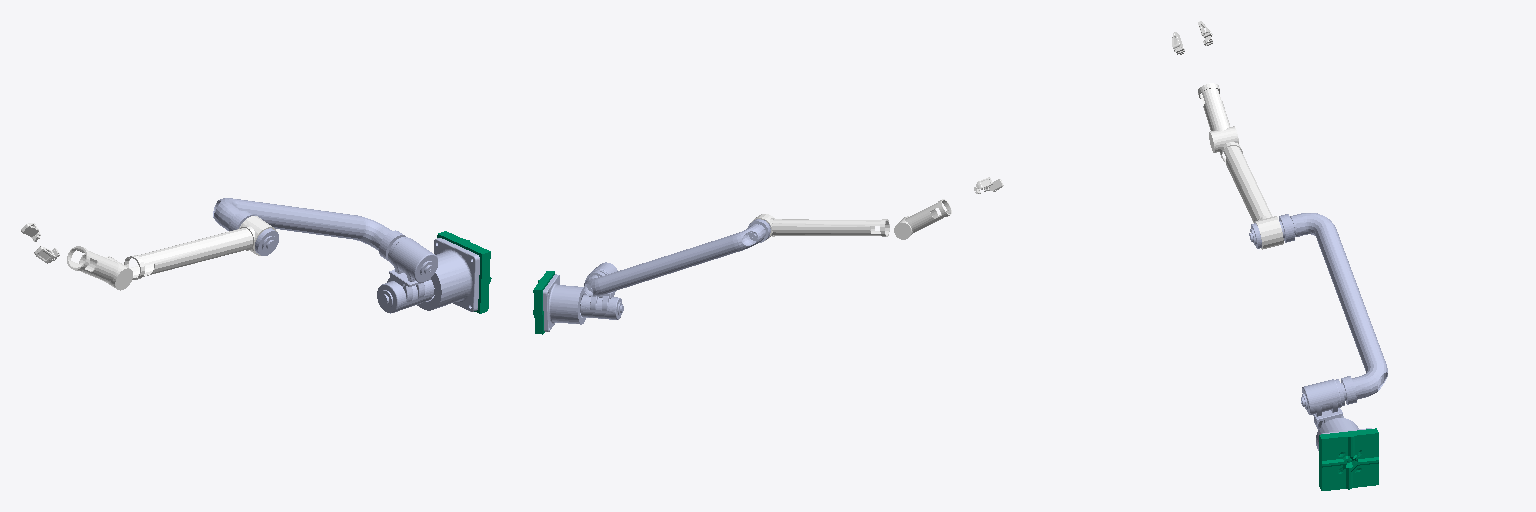
robot.urdf — satellite_8__starlink_sldasm9:
<?xml version='1.0' encoding='utf-8'?>
<robot name="satellite_8__starlink_sldasm9">
  <link name="base_link">
    <visual>
      <geometry>
        <mesh filename="../satellites/satellite_8/satellite.stl" scale="1 1 1" />
      </geometry>
      <material name="satellite_body_color">
        <color rgba="0.65 0.72 0.8 1" />
      </material>
    </visual>
    <collision>
      <geometry>
        <mesh filename="../satellites/satellite_8/satellite.stl" scale="1 1 1" />
      </geometry>
    </collision>
  </link>
  <link name="satellite_8_mount" />
  <joint name="satellite_mount_fixed" type="fixed">
    <parent link="base_link" />
    <child link="satellite_8_mount" />
    <origin xyz="0.15477028499931625 -0.178627828679634 0.5965685106964815" rpy="-1.5292767408638297 -0.009960664339460301 1.8061152658260409" />
  </joint>
  <link name="concept_mount_pad">
    <visual>
      <geometry>
        <mesh filename="../satellites/satellite_8/prism_side_shim.stl" />
      </geometry>
    </visual>
    <collision>
      <geometry>
        <mesh filename="../satellites/satellite_8/prism_side_shim.stl" />
      </geometry>
    </collision>
  </link>
  <joint name="pad_fixed" type="fixed">
    <parent link="satellite_8_mount" />
    <child link="concept_mount_pad" />
    <origin xyz="0 0 0" rpy="0 0 0" />
  </joint>
  <joint name="arm_adapter_fixed" type="fixed">
    <parent link="satellite_8_mount" />
    <child link="starlink_space_manipulator_base_link" />
    <origin xyz="0.009087204933166504 0.008519247174263 0.17734242334961897" rpy="-1.5707963267948966 0 0" />
  </joint>
  <link name="starlink_space_manipulator_base_link">
    <inertial>
      <origin xyz="-0.00908719924946466 0.0225428225681148 -0.00851924929637313" rpy="0 0 0" />
      <mass value="8.66024015898073" />
      <inertia ixx="0.0960303512697639" ixy="1.65511904636803E-18" ixz="6.22039820639877E-19" iyy="0.103454922260914" iyz="-9.68471289978311E-19" izz="0.0960303512697639" />
    </inertial>
    <visual>
      <origin xyz="0 0 0" rpy="0 0 0" />
      <geometry>
        <mesh filename="../arms/starlink_sldasm9/meshes/starlink_space_manipulator_base_link.STL" />
      </geometry>
      <material name="">
        <color rgba="0.792156862745098 0.819607843137255 0.933333333333333 1" />
      </material>
    </visual>
    <collision>
      <origin xyz="0 0 0" rpy="0 0 0" />
      <geometry>
        <mesh filename="../arms/starlink_sldasm9/meshes/starlink_space_manipulator_base_link.STL" />
      </geometry>
    </collision>
  </link>
  <link name="starlink_space_manipulator_Shoulder_link_1">
    <inertial>
      <origin xyz="-0.000399471745595769 -0.100006574194712 -0.17423940484461" rpy="0 0 0" />
      <mass value="5.16309216784981" />
      <inertia ixx="0.0524543852135592" ixy="0.00348154867667969" ixz="6.96526910910627E-05" iyy="0.0306595326318824" iyz="-0.00056674368052247" izz="0.0439979075615329" />
    </inertial>
    <visual>
      <origin xyz="0 0 0" rpy="0 0 0" />
      <geometry>
        <mesh filename="../arms/starlink_sldasm9/meshes/starlink_space_manipulator_Shoulder_link_1.STL" />
      </geometry>
      <material name="">
        <color rgba="0.792156862745098 0.819607843137255 0.933333333333333 1" />
      </material>
    </visual>
    <collision>
      <origin xyz="0 0 0" rpy="0 0 0" />
      <geometry>
        <mesh filename="../arms/starlink_sldasm9/meshes/starlink_space_manipulator_Shoulder_link_1.STL" />
      </geometry>
    </collision>
  </link>
  <joint name="starlink_space_manipulator_Shoulder_link_1_yaw" type="revolute">
    <origin xyz="-0.0090872 -0.065 -0.0085192" rpy="1.5708 -0.15574 3.1416" />
    <parent link="starlink_space_manipulator_base_link" />
    <child link="starlink_space_manipulator_Shoulder_link_1" />
    <axis xyz="0 0 -1" />
    <limit lower="-3.14" upper="3.14" effort="0" velocity="0" />
  </joint>
  <link name="starlink_space_manipulator_Upper_arm_Link_1">
    <inertial>
      <origin xyz="0.402106341472203 -0.696465272634528 -0.170177523085579" rpy="0 0 0" />
      <mass value="5.05309869040685" />
      <inertia ixx="0.388719013133801" ixy="0.210155896498943" ixz="9.30829370680679E-08" iyy="0.146049057575642" iyz="1.71830458004218E-07" izz="0.500677708275447" />
    </inertial>
    <visual>
      <origin xyz="0 0 0" rpy="0 0 0" />
      <geometry>
        <mesh filename="../arms/starlink_sldasm9/meshes/starlink_space_manipulator_Upper_arm_Link_1.STL" />
      </geometry>
      <material name="">
        <color rgba="0.792156862745098 0.819607843137255 0.933333333333333 1" />
      </material>
    </visual>
    <collision>
      <origin xyz="0 0 0" rpy="0 0 0" />
      <geometry>
        <mesh filename="../arms/starlink_sldasm9/meshes/starlink_space_manipulator_Upper_arm_Link_1.STL" />
      </geometry>
    </collision>
  </link>
  <joint name="starlink_space_manipulator_Upper_arm_Link_1_roll" type="revolute">
    <origin xyz="0 -0.2 -0.18" rpy="1.5708 0.90646 1.5708" />
    <parent link="starlink_space_manipulator_Shoulder_link_1" />
    <child link="starlink_space_manipulator_Upper_arm_Link_1" />
    <axis xyz="0 0 -1" />
    <limit lower="-2" upper="1.5" effort="0" velocity="0" />
  </joint>
  <link name="starlink_space_manipulator_Mid_arm_Link_1">
    <inertial>
      <origin xyz="-0.000406052776441013 0.317722269561105 0.0155331755135703" rpy="0 0 0" />
      <mass value="1.57635531881168" />
      <inertia ixx="0.133610363618846" ixy="5.33750993405138E-05" ixz="-3.60473795202962E-09" iyy="0.00502119434334708" iyz="-2.514275749911E-05" izz="0.134586018527477" />
    </inertial>
    <visual>
      <origin xyz="0 0 0" rpy="0 0 0" />
      <geometry>
        <mesh filename="../arms/starlink_sldasm9/meshes/starlink_space_manipulator_Mid_arm_Link_1.STL" />
      </geometry>
      <material name="">
        <color rgba="1 1 1 1" />
      </material>
    </visual>
    <collision>
      <origin xyz="0 0 0" rpy="0 0 0" />
      <geometry>
        <mesh filename="../arms/starlink_sldasm9/meshes/starlink_space_manipulator_Mid_arm_Link_1.STL" />
      </geometry>
    </collision>
  </link>
  <joint name="starlink_space_manipulator_Mid_arm_Link_1_roll" type="revolute">
    <origin xyz="0.599999999999673 -1.03923048454122 0" rpy="-3.14159265358979 0 0.828250280535091" />
    <parent link="starlink_space_manipulator_Upper_arm_Link_1" />
    <child link="starlink_space_manipulator_Mid_arm_Link_1" />
    <axis xyz="0 0 -1" />
    <limit lower="-3.14" upper="3.14" effort="0" velocity="0" />
  </joint>
  <link name="starlink_space_manipulator_Upper_wrist_Link_1">
    <inertial>
      <origin xyz="-0.000400003664721815 -0.201565878030355 -0.00216705855311664" rpy="0 0 0" />
      <mass value="0.994770641034713" />
      <inertia ixx="0.00165409639029414" ixy="-7.59103925411082E-06" ixz="-3.17403155320863E-06" iyy="0.00201437937768072" iyz="2.63246464091218E-06" izz="0.00159638838344539" />
    </inertial>
    <visual>
      <origin xyz="0 0 0" rpy="0 0 0" />
      <geometry>
        <mesh filename="../arms/starlink_sldasm9/meshes/starlink_space_manipulator_Upper_wrist_Link_1.STL" />
      </geometry>
      <material name="">
        <color rgba="0.792156862745098 0.819607843137255 0.933333333333333 1" />
      </material>
    </visual>
    <collision>
      <origin xyz="0 0 0" rpy="0 0 0" />
      <geometry>
        <mesh filename="../arms/starlink_sldasm9/meshes/starlink_space_manipulator_Upper_wrist_Link_1.STL" />
      </geometry>
    </collision>
  </link>
  <joint name="starlink_space_manipulator_Upper_wrist_Link_1_yaw" type="revolute">
    <origin xyz="-0.00050155183276912 0.686793643713439 0.0155010481432086" rpy="0 -0.0763876794035917 3.14159265358979" />
    <parent link="starlink_space_manipulator_Mid_arm_Link_1" />
    <child link="starlink_space_manipulator_Upper_wrist_Link_1" />
    <axis xyz="0 -1 0" />
    <limit lower="-3.14" upper="3.14" effort="0" velocity="0" />
  </joint>
  <link name="starlink_space_manipulator_Upper_wrist_Link_2">
    <inertial>
      <origin xyz="8.45304168883843E-08 0.0848318719623631 -0.00515657391755576" rpy="0 0 0" />
      <mass value="1.03716823037577" />
      <inertia ixx="0.0100970561498589" ixy="1.32295633551837E-09" ixz="-9.43675929999229E-09" iyy="0.00222325407426665" iyz="-2.08772874866187E-06" izz="0.0105840577017538" />
    </inertial>
    <visual>
      <origin xyz="0 0 0" rpy="0 0 0" />
      <geometry>
        <mesh filename="../arms/starlink_sldasm9/meshes/starlink_space_manipulator_Upper_wrist_Link_2.STL" />
      </geometry>
      <material name="">
        <color rgba="1 1 1 1" />
      </material>
    </visual>
    <collision>
      <origin xyz="0 0 0" rpy="0 0 0" />
      <geometry>
        <mesh filename="../arms/starlink_sldasm9/meshes/starlink_space_manipulator_Upper_wrist_Link_2.STL" />
      </geometry>
    </collision>
  </link>
  <joint name="starlink_space_manipulator_Upper_wrist_Link_2_roll" type="revolute">
    <origin xyz="0 -0.30020635628656 0" rpy="-0.0158640776811277 -0.0317448426184613 -2.67805461574742" />
    <parent link="starlink_space_manipulator_Upper_wrist_Link_1" />
    <child link="starlink_space_manipulator_Upper_wrist_Link_2" />
    <axis xyz="0 0 1" />
    <limit lower="-2.5" upper="1.8" effort="0" velocity="0" />
  </joint>
  <link name="starlink__space_manipulator_2F-Body_Link">
    <inertial>
      <origin xyz="0.000132893636818288 -0.122912145301831 0.000141178527731878" rpy="0 0 0" />
      <mass value="2.06098061435798" />
      <inertia ixx="0.00357820981002093" ixy="-9.7173781739015E-06" ixz="-0.000377950837415894" iyy="0.00540179107539635" iyz="3.57093943209629E-06" izz="0.0050632324449311" />
    </inertial>
    <visual>
      <origin xyz="0 0 0" rpy="0 0 0" />
      <geometry>
        <mesh filename="../arms/starlink_sldasm9/meshes/starlink__space_manipulator_2F-Body_Link.STL" />
      </geometry>
      <material name="">
        <color rgba="0.792156862745098 0.819607843137255 0.933333333333333 1" />
      </material>
    </visual>
    <collision>
      <origin xyz="0 0 0" rpy="0 0 0" />
      <geometry>
        <mesh filename="../arms/starlink_sldasm9/meshes/starlink__space_manipulator_2F-Body_Link.STL" />
      </geometry>
    </collision>
  </link>
  <joint name="starlink__space_manipulator_2F-Body_Link_yaw" type="revolute">
    <origin xyz="0 0.34845 -0.0053813" rpy="-3.1416 0.93592 0" />
    <parent link="starlink_space_manipulator_Upper_wrist_Link_2" />
    <child link="starlink__space_manipulator_2F-Body_Link" />
    <axis xyz="0 -1 0" />
    <limit lower="-3.14" upper="3.14" effort="0" velocity="0" />
  </joint>
  <link name="starlink_space_manipulator_Finger1_2_Link">
    <inertial>
      <origin xyz="-0.128379781160824 0.00213384929263816 0.20765530277947" rpy="0 0 0" />
      <mass value="0.164012557851557" />
      <inertia ixx="0.000137377814382494" ixy="5.75324125943043E-07" ixz="1.56204374379134E-05" iyy="0.000128174497717794" iyz="2.8915711708103E-06" izz="5.56877077151319E-05" />
    </inertial>
    <visual>
      <origin xyz="0 0 0" rpy="0 0 0" />
      <geometry>
        <mesh filename="../arms/starlink_sldasm9/meshes/starlink_space_manipulator_Finger1_2_Link.STL" />
      </geometry>
      <material name="">
        <color rgba="1 1 1 1" />
      </material>
    </visual>
    <collision>
      <origin xyz="0 0 0" rpy="0 0 0" />
      <geometry>
        <mesh filename="../arms/starlink_sldasm9/meshes/starlink_space_manipulator_Finger1_2_Link.STL" />
      </geometry>
    </collision>
  </link>
  <joint name="starlink_space_manipulator_Finger1_2_Link_roll" type="prismatic">
    <origin xyz="-0.2017 -0.10916 -0.04801" rpy="-1.5708 0.22747 -3.1416" />
    <parent link="starlink__space_manipulator_2F-Body_Link" />
    <child link="starlink_space_manipulator_Finger1_2_Link" />
    <axis xyz="-1 0 0" />
    <limit lower="0.0" upper="0.04" effort="20" velocity="0" />
  </joint>
  <link name="starlink_space_manipulator_Finger2_1_Link">
    <inertial>
      <origin xyz="-0.128379783275286 0.0021338497374519 0.207655316264438" rpy="0 0 0" />
      <mass value="0.164012525176243" />
      <inertia ixx="0.000137377758573247" ixy="5.75327227385201E-07" ixz="1.56204303396715E-05" iyy="0.00012817444752134" iyz="2.89153901545968E-06" izz="5.5687711839857E-05" />
    </inertial>
    <visual>
      <origin xyz="0 0 0" rpy="0 0 0" />
      <geometry>
        <mesh filename="../arms/starlink_sldasm9/meshes/starlink_space_manipulator_Finger2_1_Link.STL" />
      </geometry>
      <material name="">
        <color rgba="1 1 1 1" />
      </material>
    </visual>
    <collision>
      <origin xyz="0 0 0" rpy="0 0 0" />
      <geometry>
        <mesh filename="../arms/starlink_sldasm9/meshes/starlink_space_manipulator_Finger2_1_Link.STL" />
      </geometry>
    </collision>
  </link>
  <joint name="starlink_space_manipulator_Finger2_1_Link_roll" type="prismatic">
    <origin xyz="0.20865 -0.10916 0.049619" rpy="1.5708 -0.22747 0" />
    <parent link="starlink__space_manipulator_2F-Body_Link" />
    <child link="starlink_space_manipulator_Finger2_1_Link" />
    <axis xyz="-1 0 0" />
    <limit lower="0.0" upper="0.04" effort="20" velocity="0" />
  </joint>
</robot>

--- Facts derived from the render (not from the file) ---
3 views of the same robot in one strip: view 1: azimuth 30°, elevation 25°; view 2: azimuth 150°, elevation 25°; view 3: azimuth 270°, elevation 25° (orthographic).
Robot: satellite_8__starlink_sldasm9 — 12 links, 11 joints (6 revolute, 2 prismatic, 3 fixed); root link base_link; default pose: every joint at zero.
Links seen in each view (by area): view 1: starlink_space_manipulator_Upper_arm_Link_1, starlink_space_manipulator_Shoulder_link_1, starlink_space_manipulator_Mid_arm_Link_1, starlink_space_manipulator_base_link, starlink_space_manipulator_Upper_wrist_Link_2, concept_mount_pad; view 2: starlink_space_manipulator_Upper_arm_Link_1, starlink_space_manipulator_Mid_arm_Link_1, starlink_space_manipulator_base_link, starlink_space_manipulator_Shoulder_link_1, starlink_space_manipulator_Upper_wrist_Link_2, concept_mount_pad; view 3: starlink_space_manipulator_Upper_arm_Link_1, concept_mount_pad, starlink_space_manipulator_Mid_arm_Link_1, starlink_space_manipulator_Shoulder_link_1, starlink_space_manipulator_Upper_wrist_Link_2.
Link boxes in pixels (<box>): starlink_space_manipulator_Upper_arm_Link_1: <box>213,198,431,272</box>; starlink_space_manipulator_Shoulder_link_1: <box>377,230,437,313</box>; starlink_space_manipulator_Mid_arm_Link_1: <box>124,216,276,279</box>; starlink_space_manipulator_base_link: <box>417,238,479,311</box>; starlink_space_manipulator_Upper_wrist_Link_2: <box>67,246,132,290</box>; concept_mount_pad: <box>437,231,491,313</box>; starlink_space_manipulator_Upper_arm_Link_1: <box>584,219,770,296</box>; starlink_space_manipulator_Mid_arm_Link_1: <box>751,214,889,240</box>; starlink_space_manipulator_base_link: <box>543,274,586,331</box>; starlink_space_manipulator_Shoulder_link_1: <box>580,262,623,319</box>; starlink_space_manipulator_Upper_wrist_Link_2: <box>894,199,951,239</box>; concept_mount_pad: <box>533,271,554,334</box>; starlink_space_manipulator_Upper_arm_Link_1: <box>1249,213,1387,403</box>; concept_mount_pad: <box>1319,428,1378,490</box>; starlink_space_manipulator_Mid_arm_Link_1: <box>1220,142,1283,249</box>; starlink_space_manipulator_Shoulder_link_1: <box>1301,376,1356,429</box>; starlink_space_manipulator_Upper_wrist_Link_2: <box>1198,83,1238,152</box>.
Bounding box of the posed robot: 3.04 × 1.18 × 1.44 m (x, y, z).
Meshes: 11 distinct files referenced, 8 mesh visuals loaded (8 binary STL); not drawn: 3 (reference not matched to a file when rendering).
